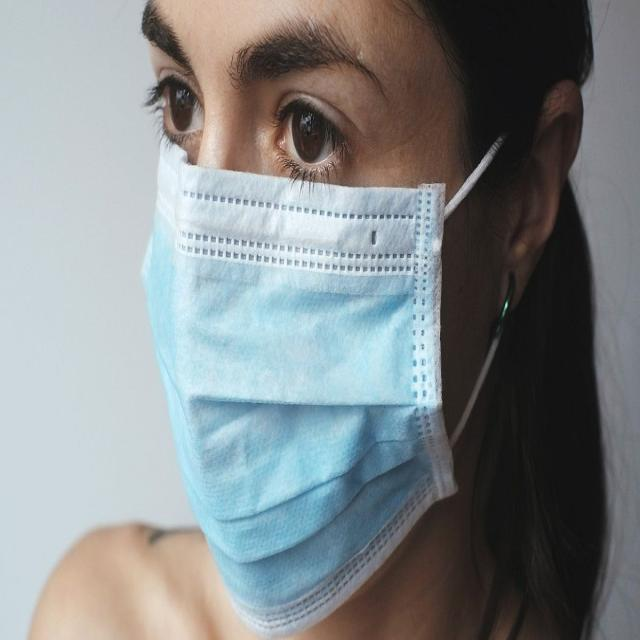1_mascarilla: (140, 149, 512, 636)
